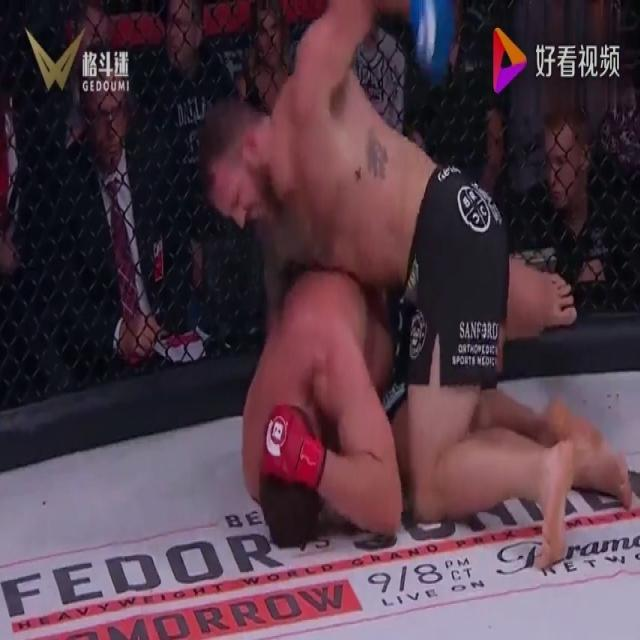fight: (198, 0, 639, 570)
